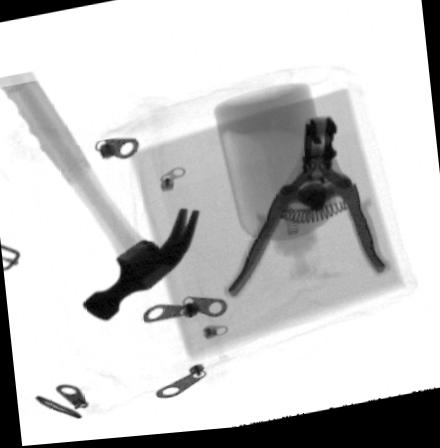Hammer: (0, 60, 199, 323)
Pliers: (224, 121, 391, 303)
